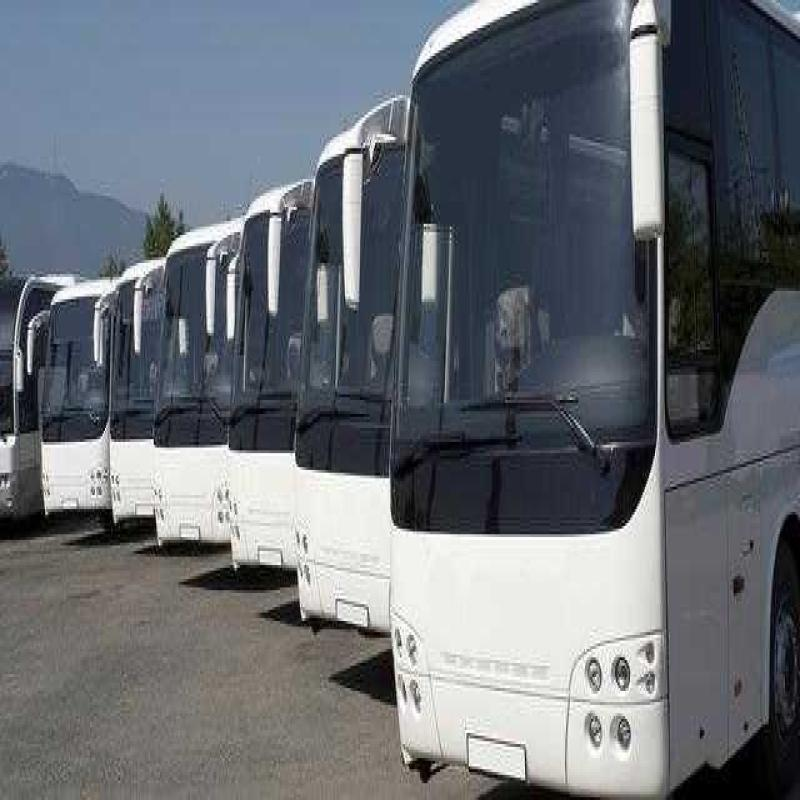bus: (382, 0, 797, 800), (301, 63, 416, 648), (232, 140, 322, 591), (155, 156, 242, 567), (107, 202, 174, 558), (42, 231, 106, 548)
